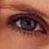eye: (21, 19, 36, 30)
